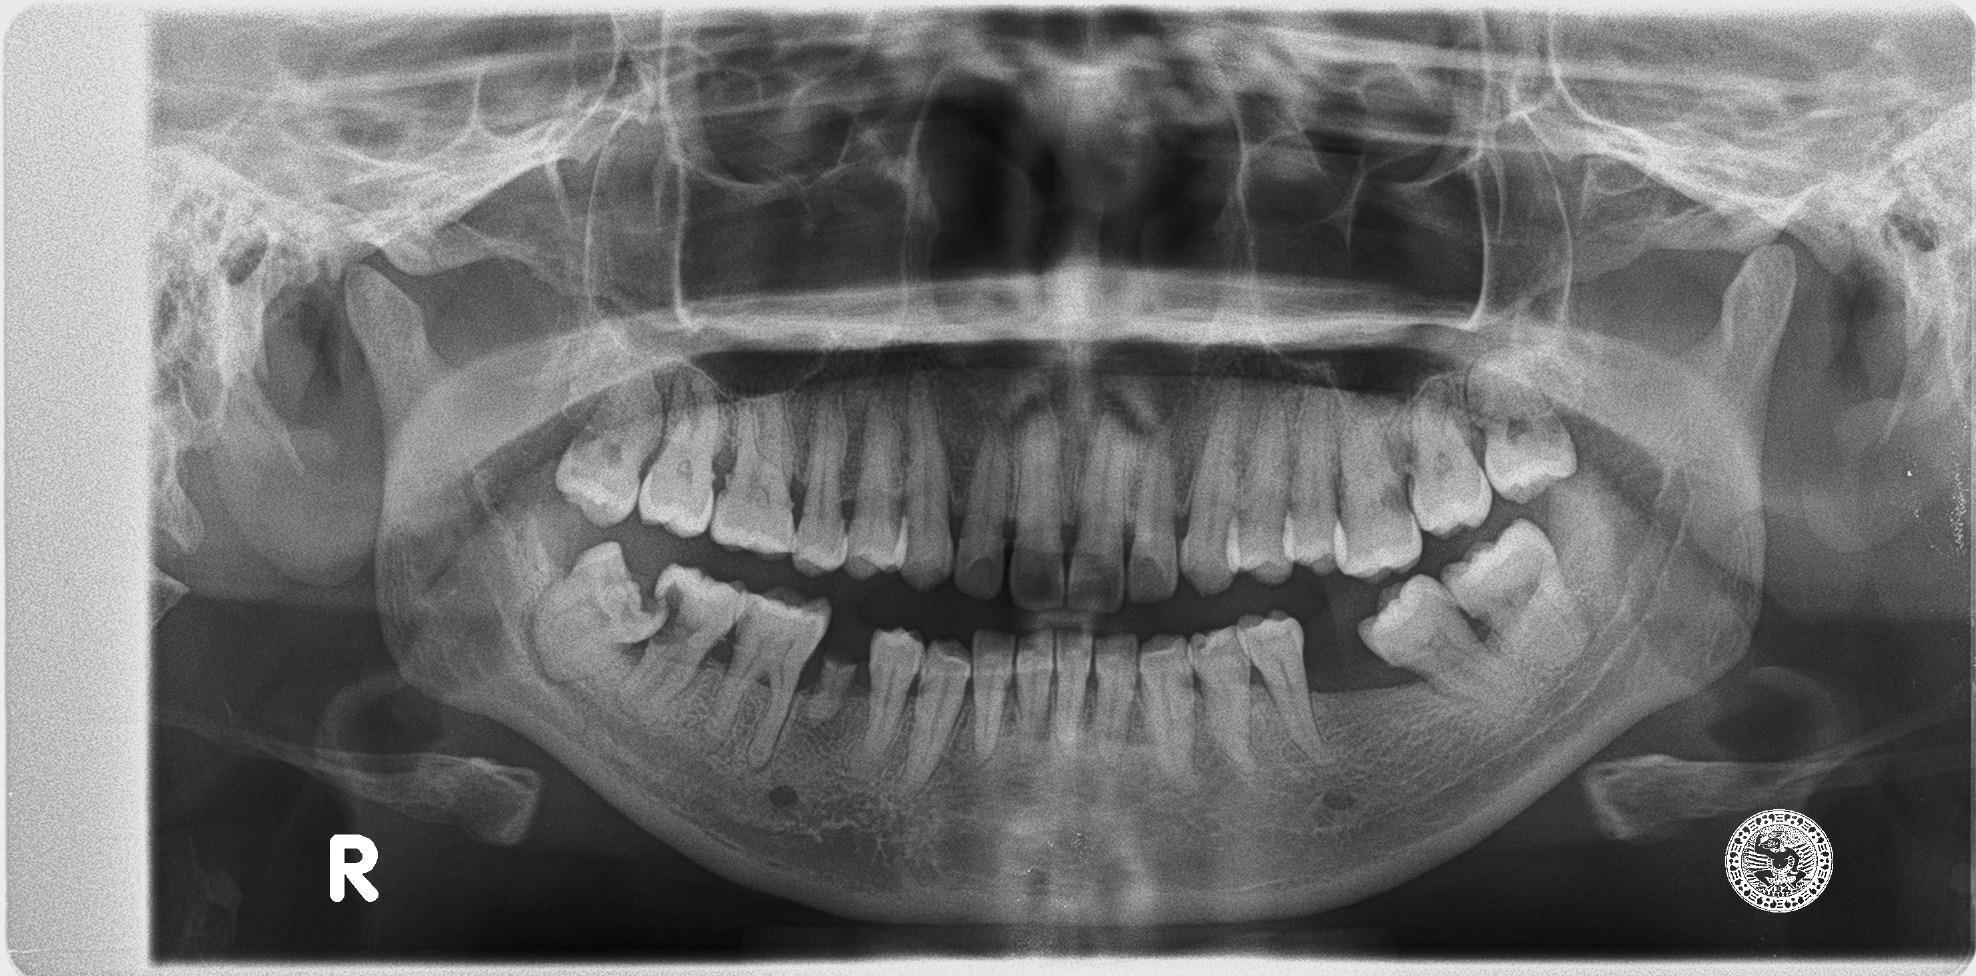Individual Tooth: (1442, 521, 1587, 671), (713, 590, 830, 769), (1358, 575, 1517, 705), (617, 564, 749, 715), (534, 542, 668, 681), (1462, 349, 1574, 502), (557, 371, 664, 527), (1333, 393, 1422, 580), (636, 367, 723, 537), (1226, 387, 1301, 584), (1066, 411, 1138, 612), (709, 393, 795, 555), (1232, 612, 1318, 749), (1284, 388, 1347, 572), (1408, 397, 1491, 535), (899, 380, 953, 588), (1009, 406, 1065, 609), (900, 641, 972, 789), (1180, 414, 1239, 593), (847, 406, 905, 576), (955, 426, 1011, 596), (1191, 625, 1255, 772), (1125, 430, 1180, 601), (796, 398, 849, 572), (859, 630, 924, 758), (1139, 638, 1193, 770), (1088, 634, 1139, 757), (973, 630, 1017, 757), (1051, 630, 1093, 759), (1016, 630, 1055, 757), (804, 656, 857, 725)
